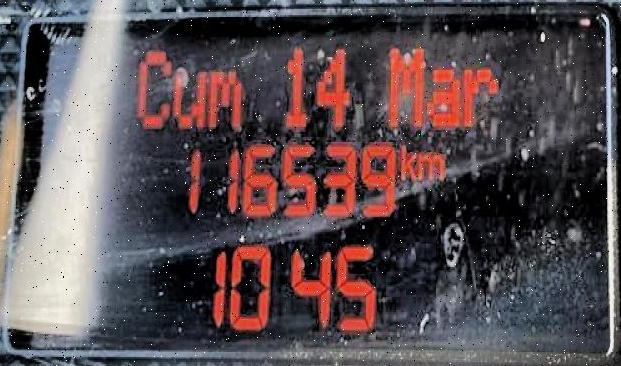0: (228, 243, 271, 330)
1: (285, 48, 306, 127), (211, 248, 226, 328), (186, 148, 200, 213), (225, 148, 238, 210)
3: (321, 143, 355, 215)
4: (290, 247, 331, 328), (316, 46, 350, 125)
5: (335, 245, 375, 331), (281, 143, 315, 215)
6: (241, 143, 276, 215)
9: (359, 143, 393, 215)
X: (386, 45, 423, 126), (135, 48, 171, 128), (424, 67, 459, 127), (461, 65, 496, 125), (172, 68, 206, 128), (207, 70, 242, 128), (416, 150, 443, 180), (398, 143, 414, 180)
